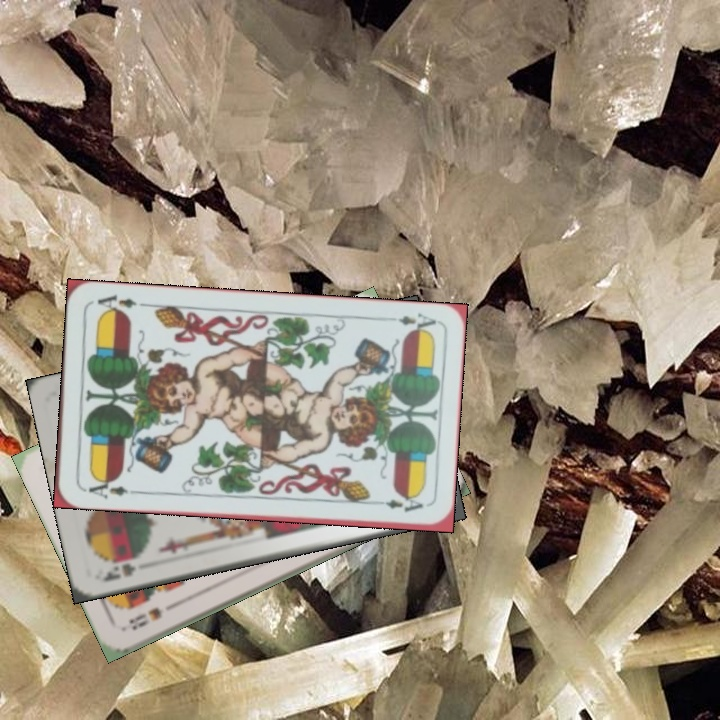EA: (79, 474, 138, 502), (381, 309, 439, 336)
S8: (125, 603, 165, 633)
SK: (98, 553, 144, 584)
